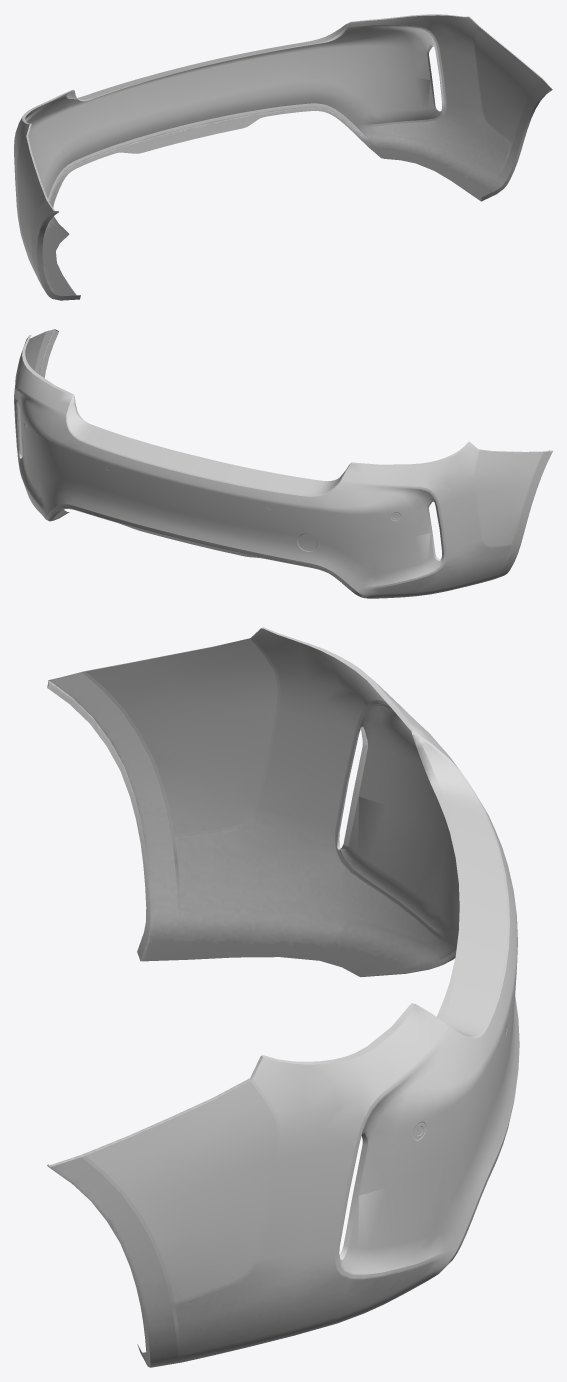
The model's file is M2bumper.glb.
3 renders of one model, top to bottom at view 1: azimuth 30°, elevation 25°; view 2: azimuth 150°, elevation 25°; view 3: azimuth 270°, elevation 25°, orthographic. The views are drawn at different scales.
Parts seen in each view (by area): view 1: Object_106; view 2: Object_106; view 3: Object_106.
Boxes of the visible parts, left/top/right/bottom form: Object_106: left=14, top=14, right=552, bottom=300; Object_106: left=14, top=329, right=552, bottom=598; Object_106: left=47, top=627, right=519, bottom=1367.
Size of the model in its own units: 1.85 by 0.5591 by 0.7587.
1 material, 1 textured.
